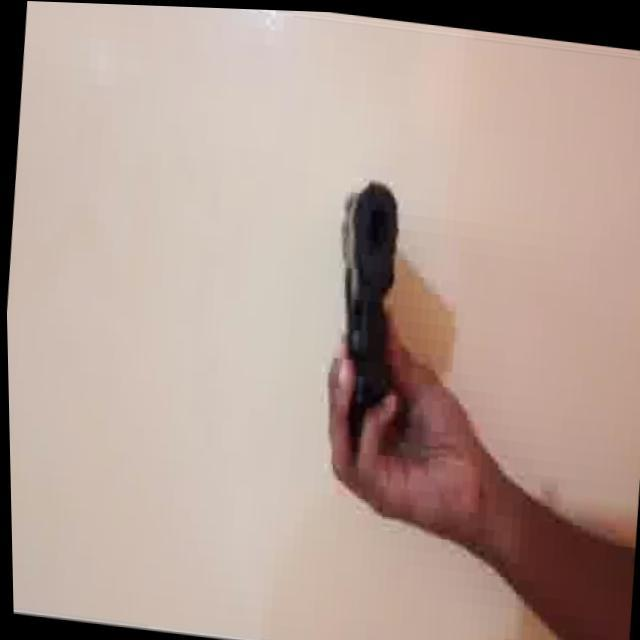weapon: (316, 172, 414, 451)
